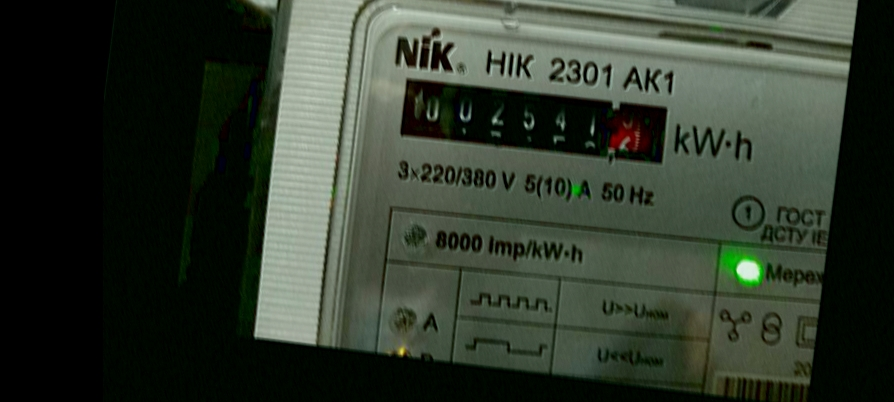0: (454, 90, 477, 125), (423, 92, 443, 123)
1: (581, 103, 601, 138)
2: (485, 93, 510, 130)
4: (551, 100, 571, 133)
5: (518, 99, 538, 133)
6: (614, 131, 633, 154)
screen: (382, 59, 691, 186)
